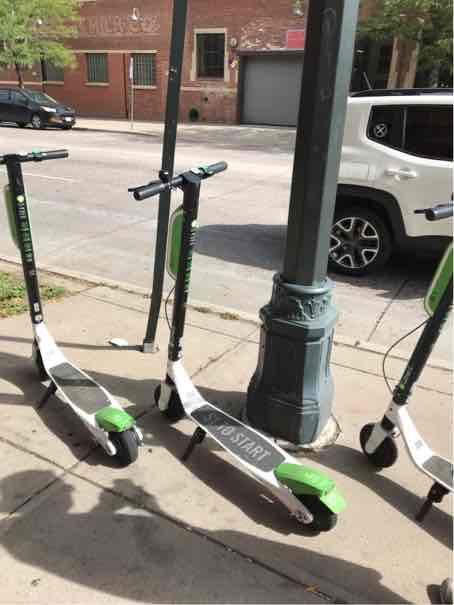scooter: (124, 154, 346, 532), (5, 136, 145, 483)
